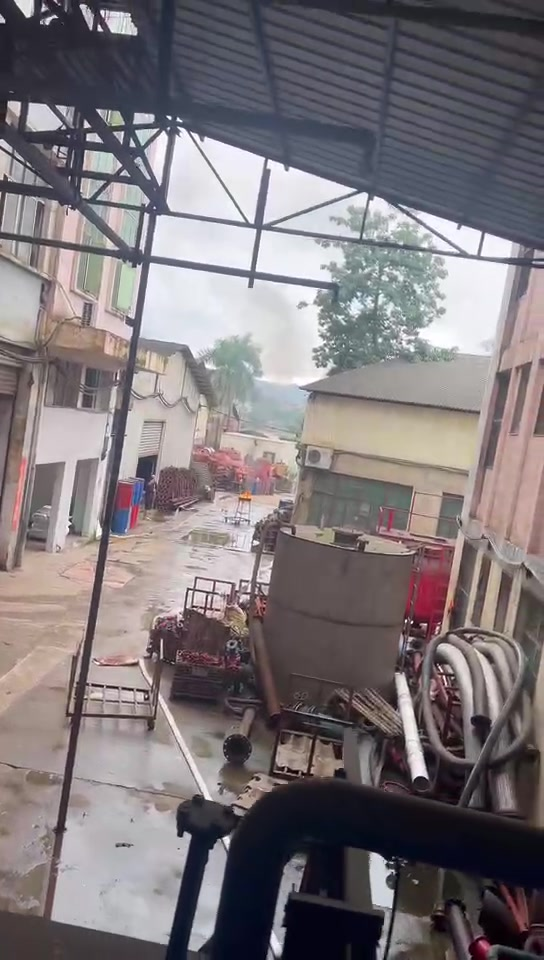fire: (237, 489, 252, 498)
